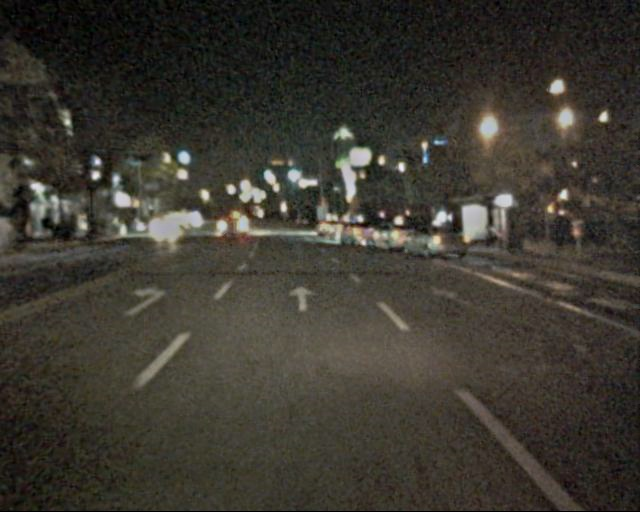person: (544, 206, 566, 260), (521, 207, 542, 253)
